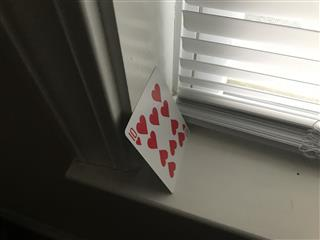TenOfHearts: (122, 64, 191, 194)
